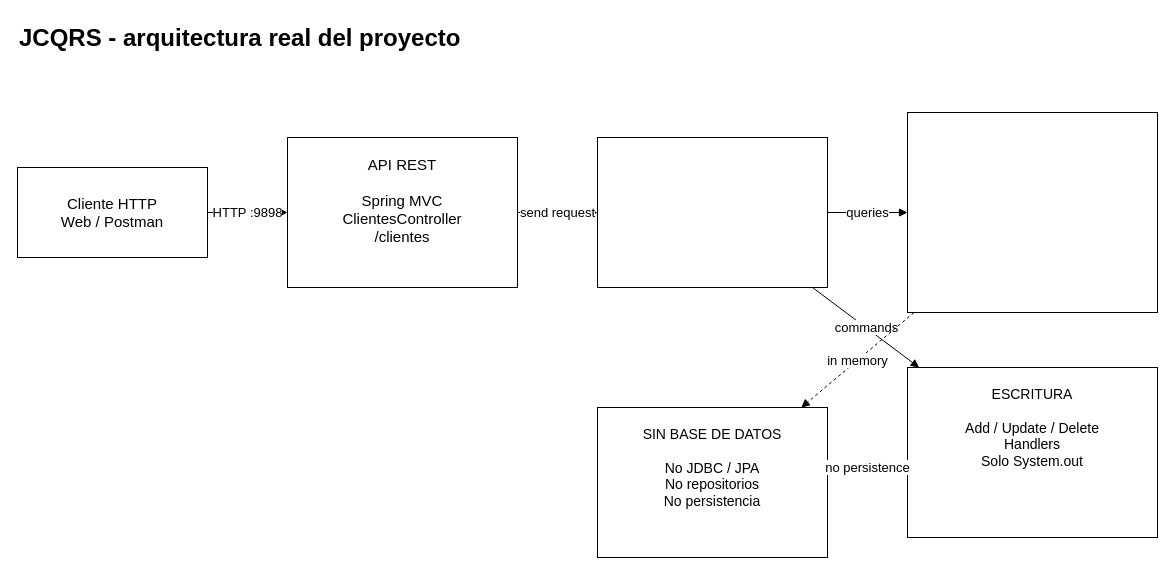
This 1175x575 diagram has some shape labels left out. The shapes that lost their labels are listed below. From the top down, each one's centre as x and y in pixels, then its label:
At point (712, 212): "CQRS Mediator Requests Handlers".
At point (1032, 212): "LECTURA ClientesAllHandler ClientesByIdHandler Datos fijos en memoria".
